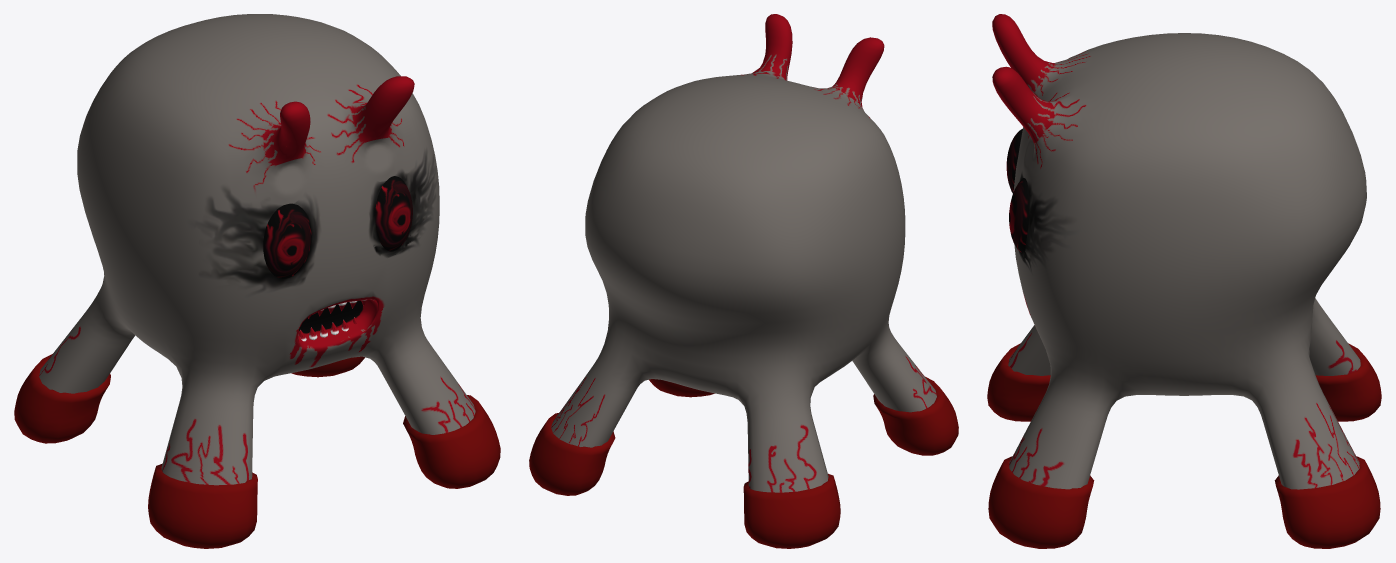
File: monster.glb
3 views of the same model, side by side, from view 1: azimuth 30°, elevation 25°; view 2: azimuth 150°, elevation 25°; view 3: azimuth 270°, elevation 25° (orthographic). The views are drawn at different scales.
Visible parts, largest first — view 1: Cone; view 2: Cone; view 3: Cone.
Boxes of the visible parts, x1,y1,x2,y2 form: Cone: [14, 14, 500, 548]; Cone: [529, 14, 958, 548]; Cone: [987, 14, 1381, 548].
Bounding box in the file's own units: 3.24 × 3.93 × 3.24.
Materials: 4 (3 with a texture image).
